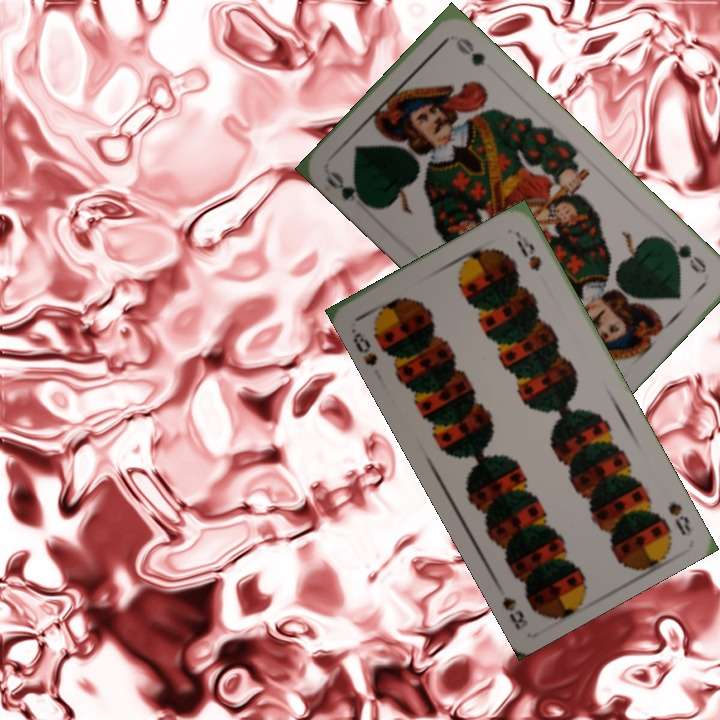GO: (321, 166, 374, 210), (661, 235, 709, 277)
S8: (347, 324, 380, 369), (663, 498, 694, 539)
